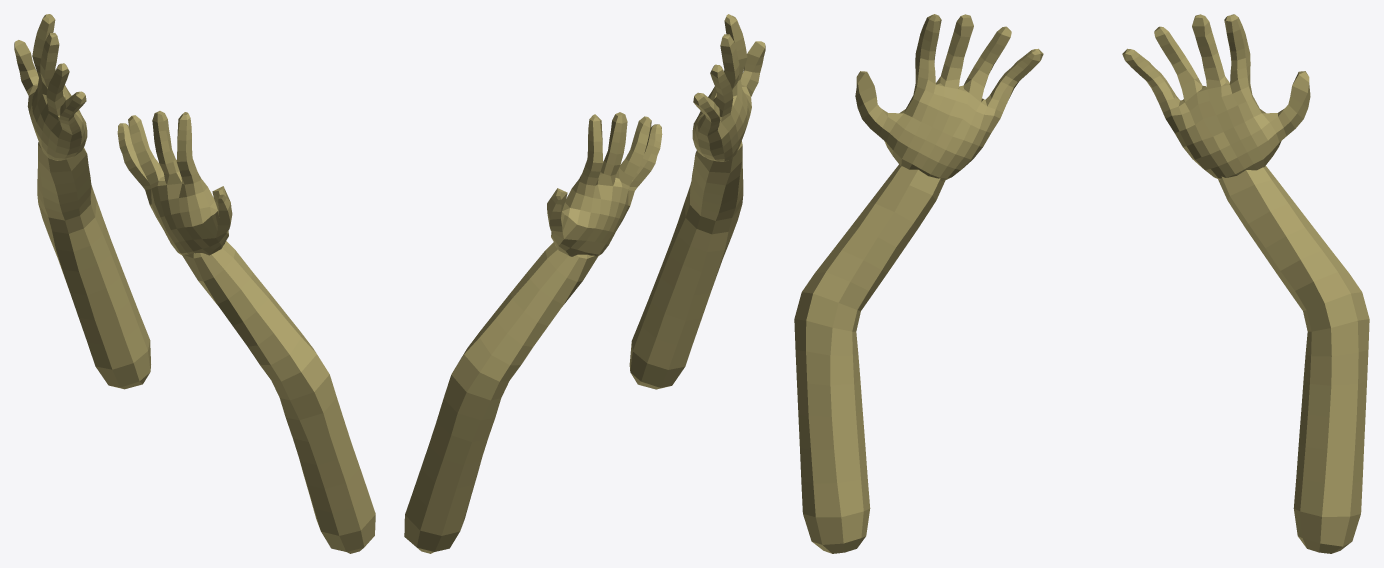
3 renders of one model, left to right at view 1: azimuth 30°, elevation 25°; view 2: azimuth 150°, elevation 25°; view 3: azimuth 270°, elevation 25°, orthographic. The views are drawn at different scales.
Parts seen in each view (by area): view 1: polySurface2; view 2: polySurface2; view 3: polySurface2.
Part boxes in pixels (left/top/right/bottom): polySurface2: left=14, top=14, right=375, bottom=553; polySurface2: left=404, top=14, right=765, bottom=553; polySurface2: left=794, top=14, right=1369, bottom=553.
Size of the model in its own units: 4.47 by 11 by 12.09.
